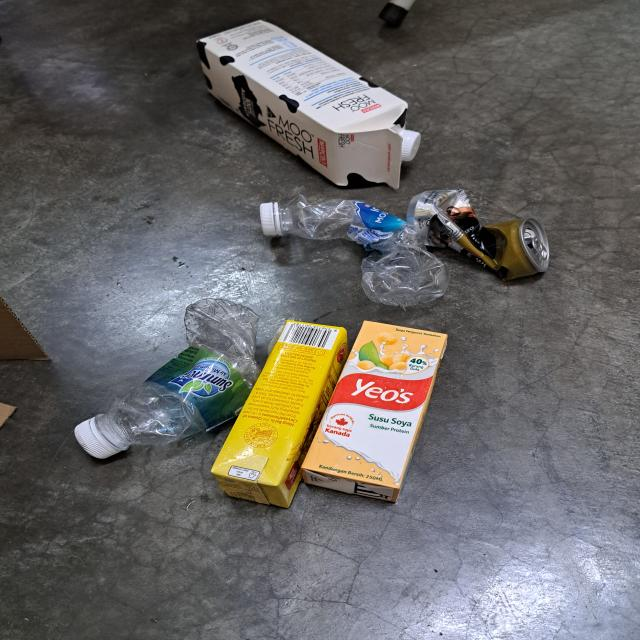can: (406, 189, 550, 282)
cardboard: (0, 286, 55, 432)
drink carton: (196, 18, 410, 190), (299, 319, 450, 505), (208, 319, 348, 510)
plastic bottle: (102, 299, 262, 448), (277, 194, 451, 307)
plastic bottle cap: (73, 419, 119, 459), (396, 130, 422, 162), (258, 202, 280, 238)
pop tab: (532, 236, 548, 261)
